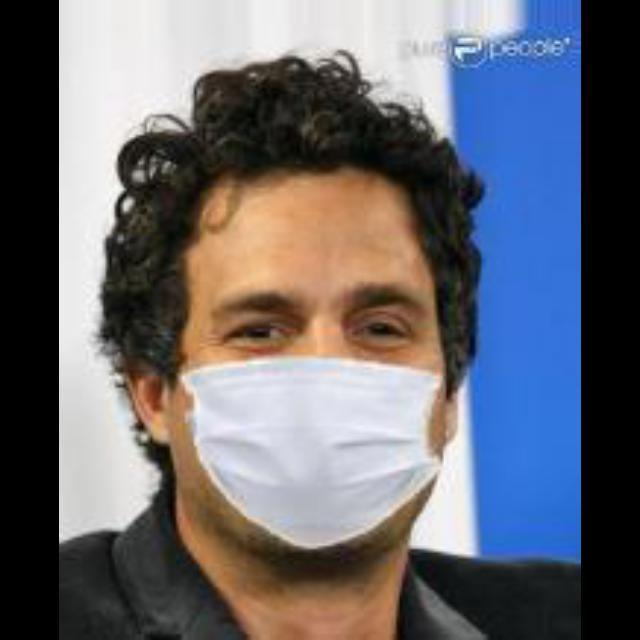suspicion: (113, 130, 477, 554)
